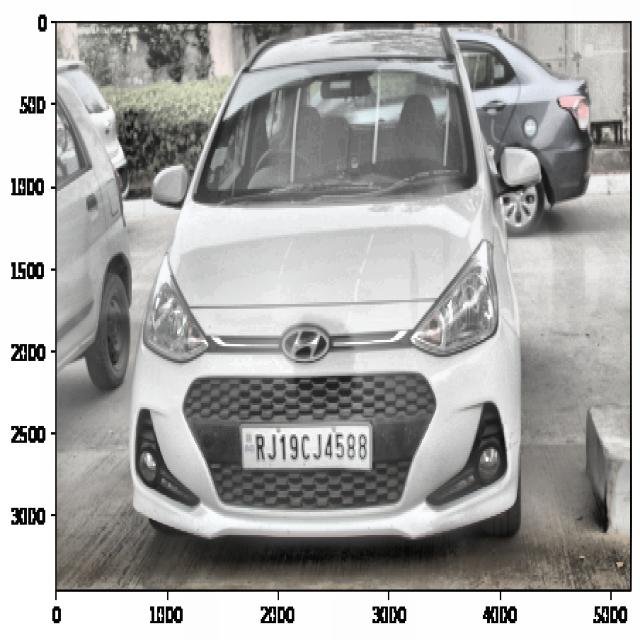license_plate: (250, 426, 373, 471)
